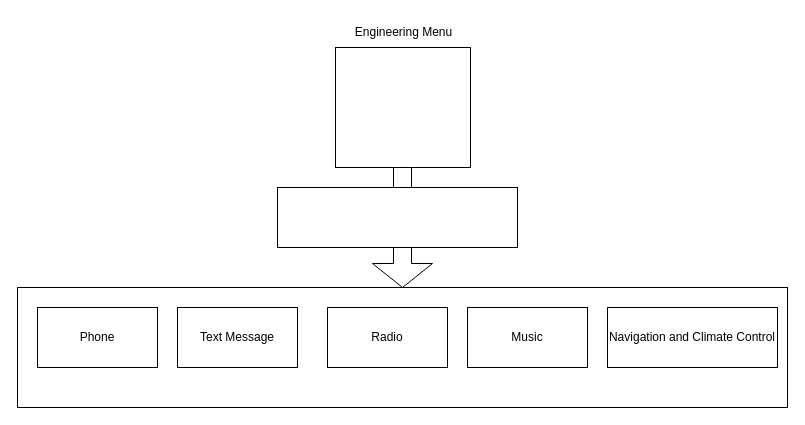
Image size: 805x425. Some labels were removed from this diagram. The box of each missing label's shape, as (x1, y1, x2, y2) in pixels:
JavaBinderClient: (334, 46, 470, 168)
NdkBinderService JNI APIs: (276, 186, 518, 248)
